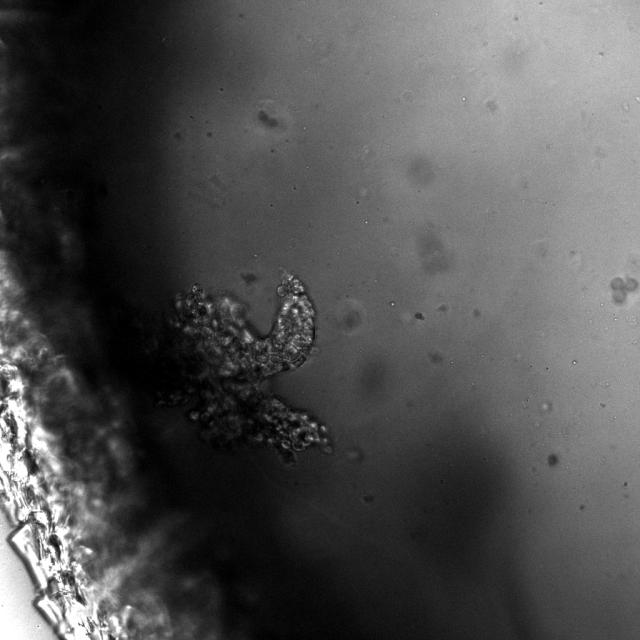organoid: (159, 273, 329, 461), (609, 276, 638, 306)
